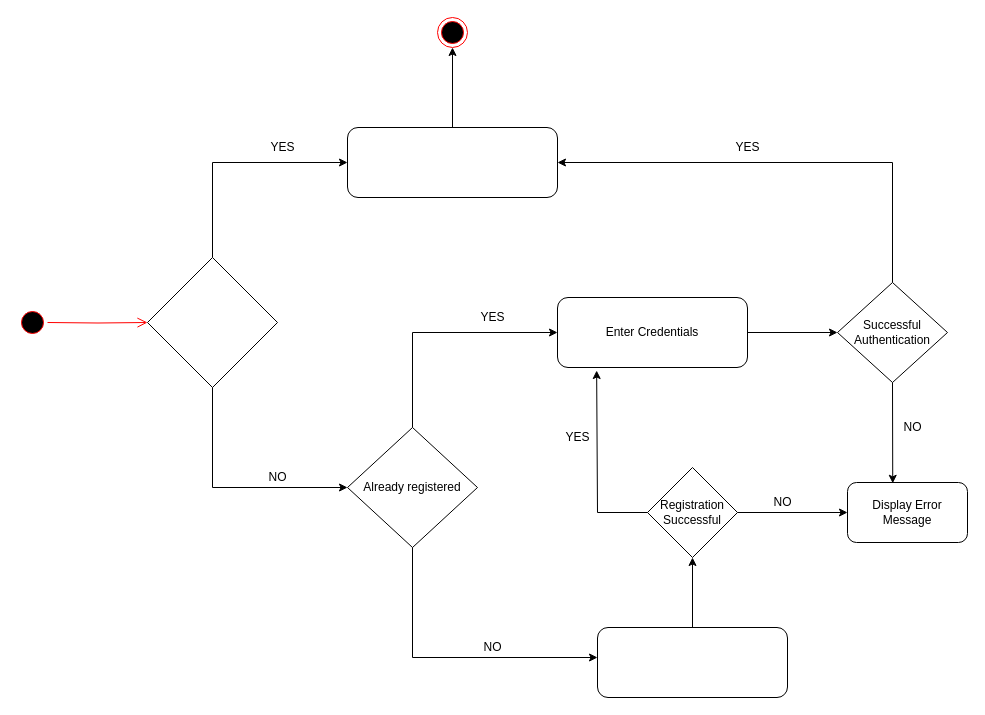
The diagram is 985 pixels wide and 715 high, and some of its shapes have lost their labels. Each missing label, with the box of its shape:
Already logged in: (146, 256, 278, 388)
Enter Registration Details: (596, 626, 788, 698)
Visit Application: (346, 126, 558, 198)
